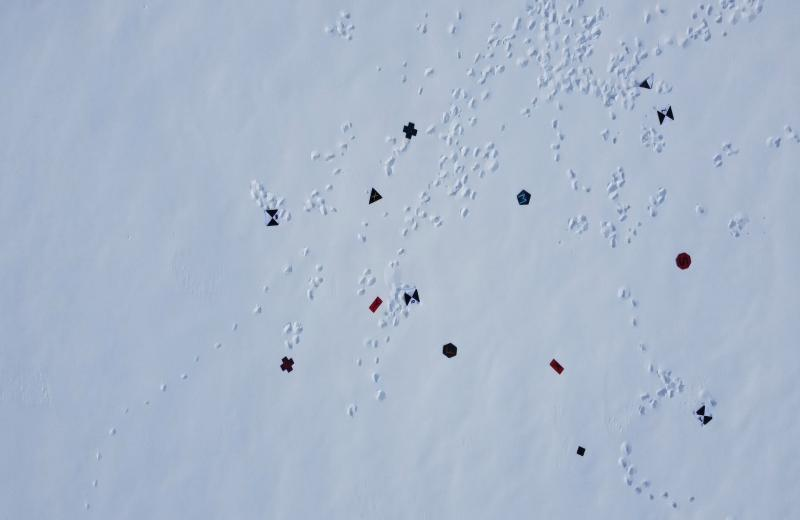Cross: (401, 120, 418, 140), (279, 355, 296, 374)
Hexagon: (441, 342, 459, 360)
Octagon: (674, 251, 692, 271)
Pentagon: (516, 189, 532, 207)
Rectangle: (366, 294, 384, 316), (548, 357, 565, 377)
Square: (575, 444, 587, 459)
Triangle: (366, 186, 385, 206)
